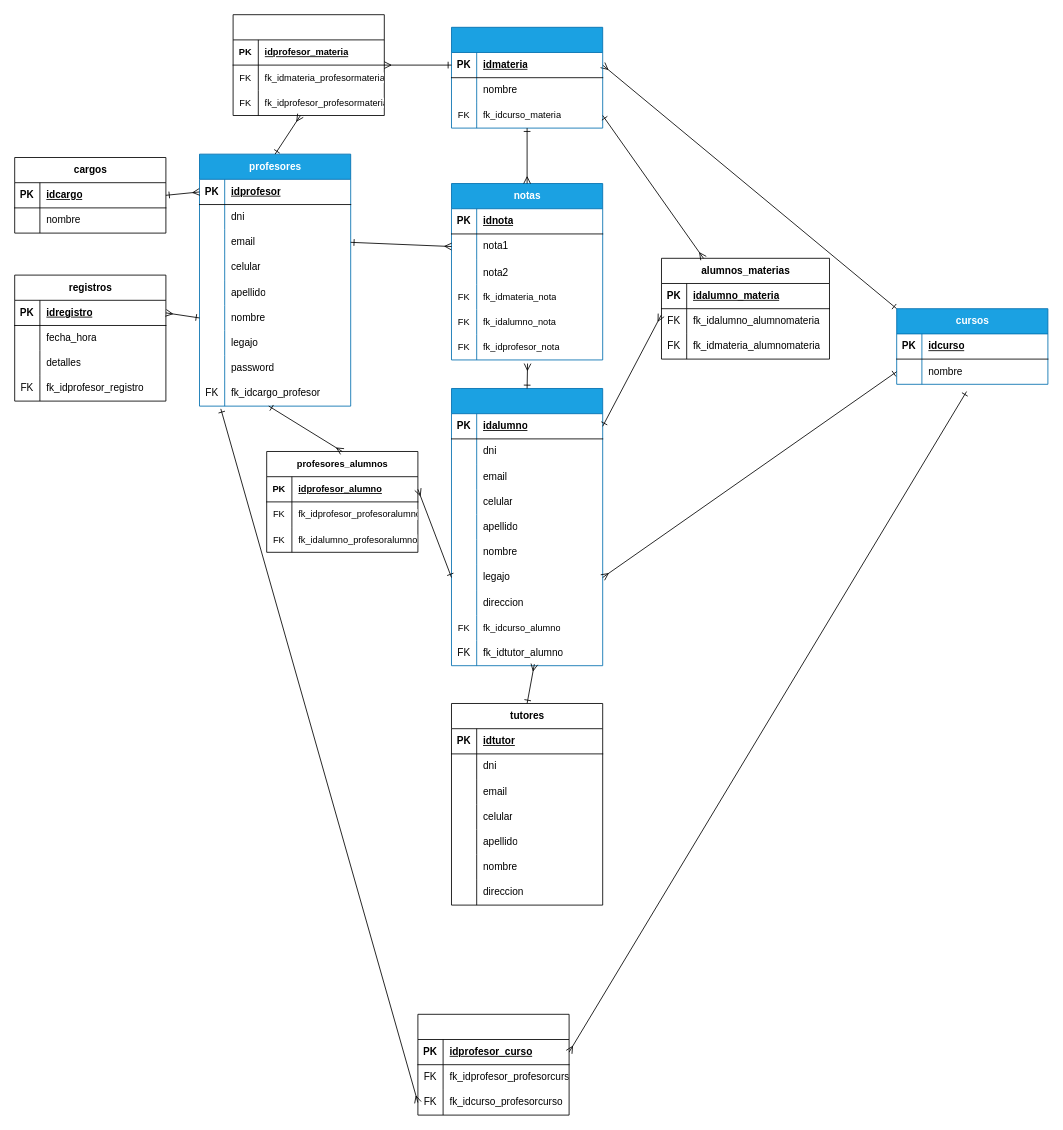
This 1063x1130 diagram has some shape labels left out. Here are the shapes that lost their labels. From the top down, the box of each, then its label:
(232, 14, 384, 116): profesores_materias
(451, 26, 603, 128): materias
(451, 388, 603, 666): alumnos
(417, 1013, 569, 1115): profesores_cursos
